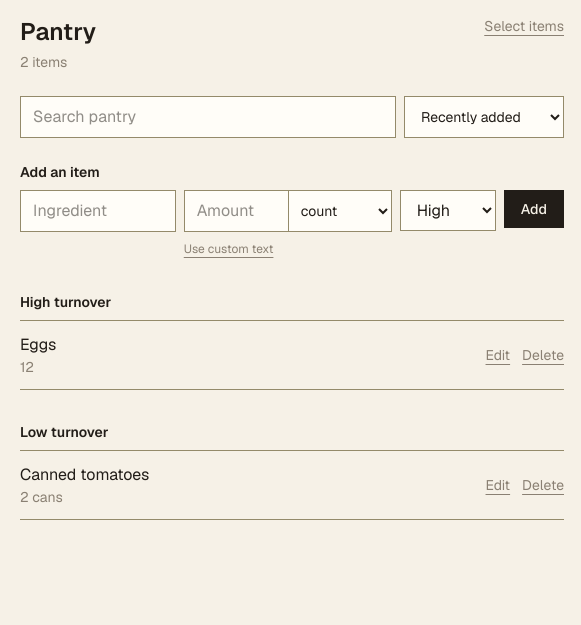
PantryPage request states › confirms and removes two selected items through the batch boundary
The width and height of the screenshot is (581, 625).
Click the button "Select items" at (524, 26), box [484,16,564,36]
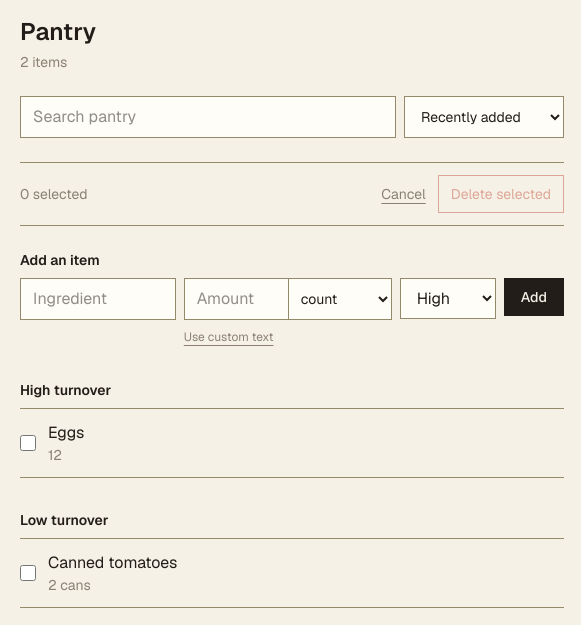
Click the checkbox named "Select Eggs" at (28, 443), box [20,435,36,451]
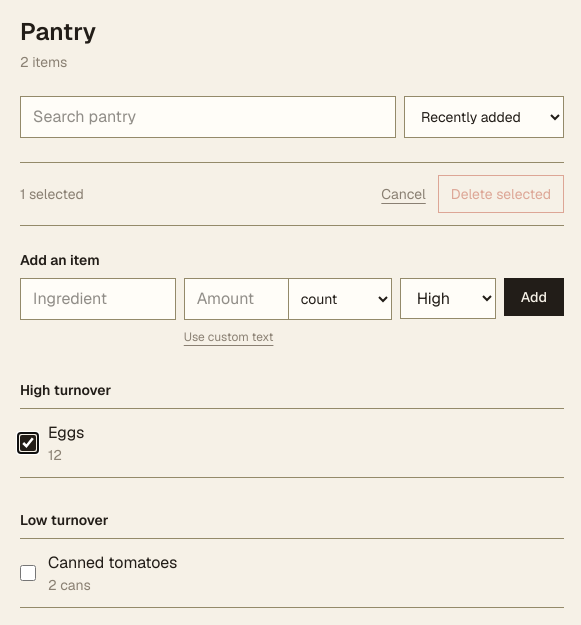
Expected: the button "Delete selected" is disabled, [438,175,564,213]
Click the checkbox named "Select Canned tomatoes" at (28, 573), box [20,565,36,581]
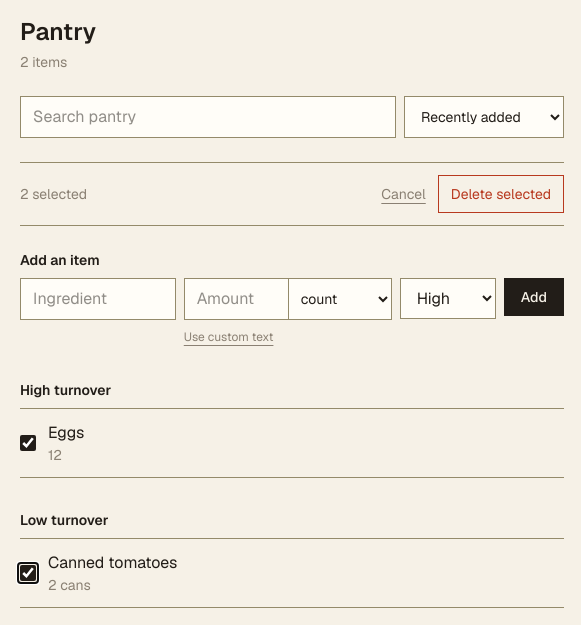
Click the button "Delete selected" at (501, 194), box [438,175,564,213]
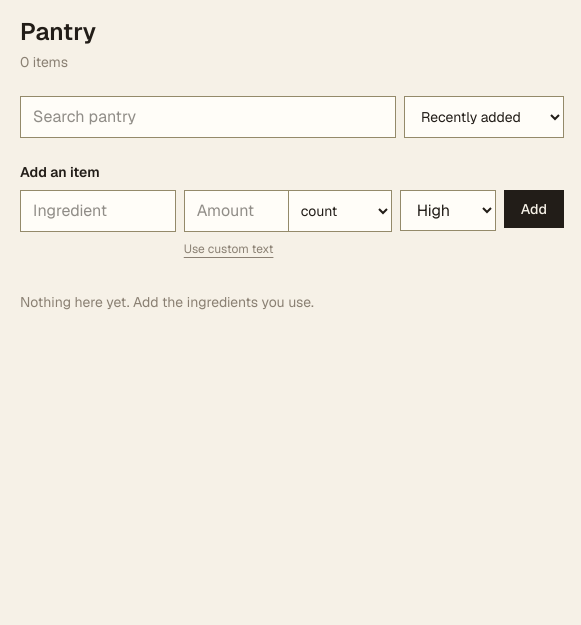
Expected: the text "Nothing here yet. Add the ingredients you use." is shown, [20,293,314,311]
